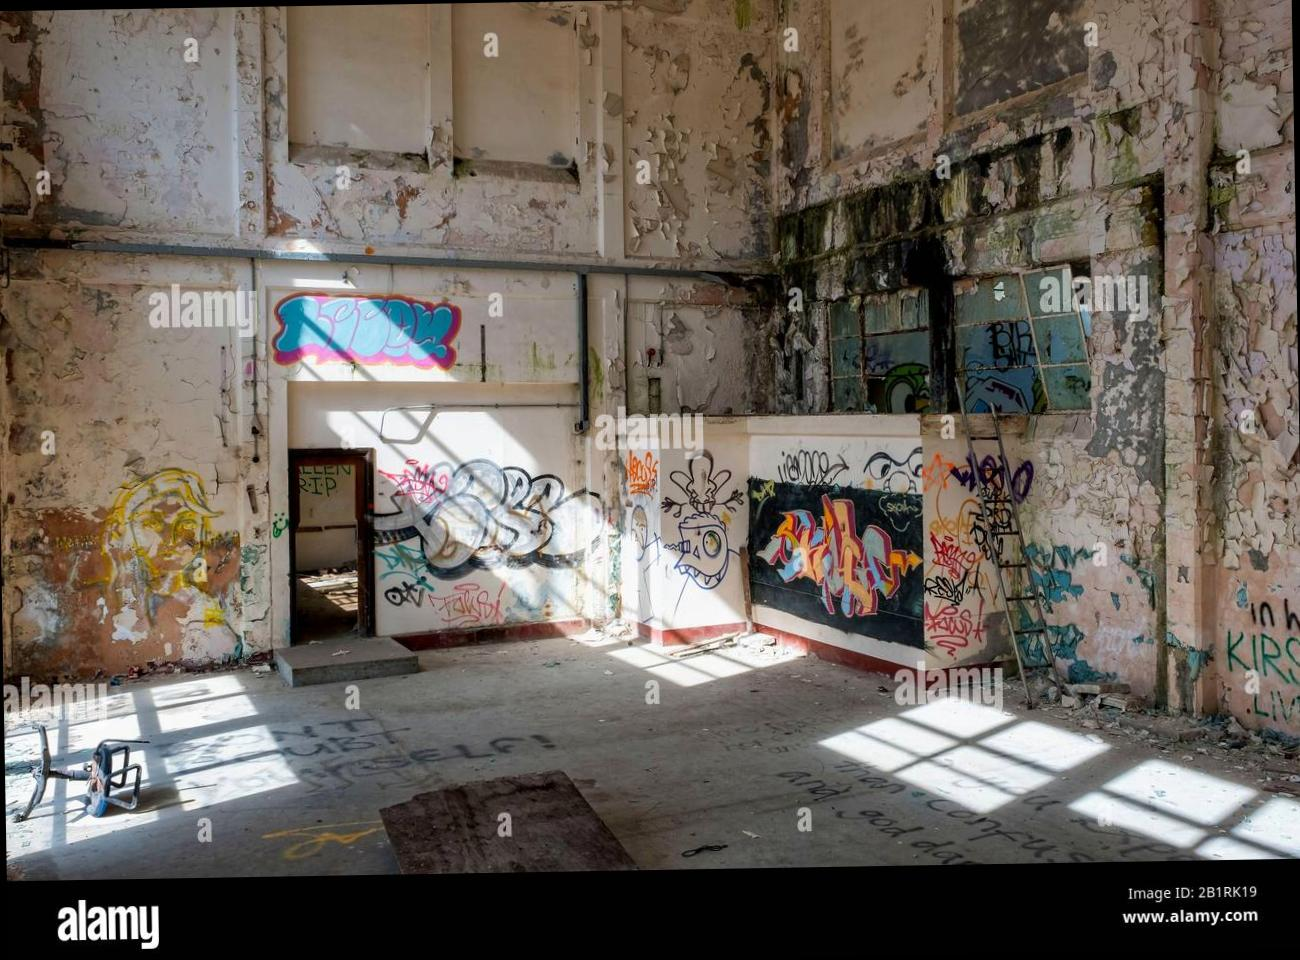graffiti: (778, 759, 1182, 863), (374, 460, 609, 633), (101, 468, 252, 628), (756, 493, 923, 618), (924, 450, 1007, 664), (1209, 574, 1300, 738), (273, 718, 553, 770), (272, 293, 461, 369), (1027, 543, 1112, 681), (661, 457, 742, 589), (621, 451, 658, 599), (262, 821, 384, 860)
trash: (381, 773, 635, 873), (11, 725, 148, 822)
